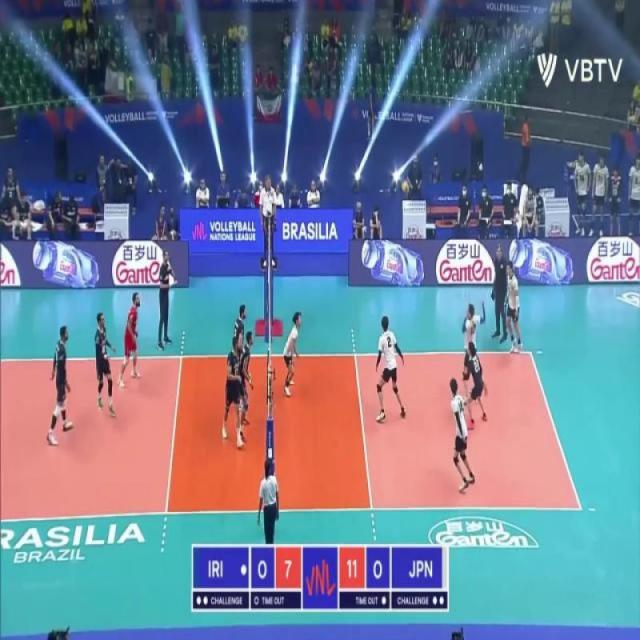volleyball: (400, 180, 411, 194), (570, 158, 578, 169)
